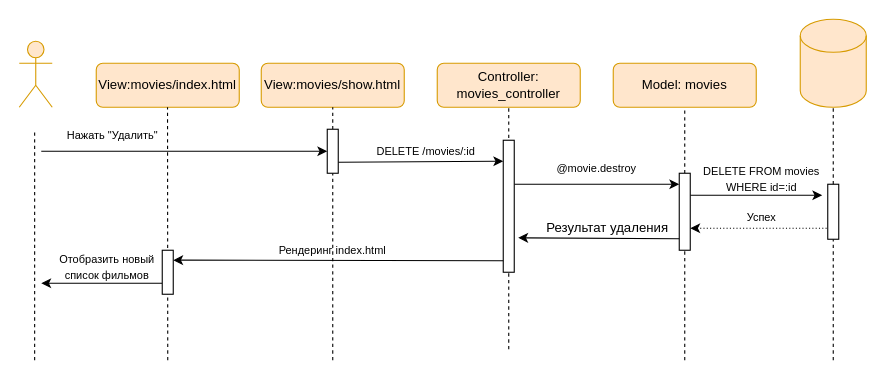
Image size: 886x381. Some labels were removed from this diagram. The box of each missing label's shape, as (x1, y1, x2, y2) in pixels:
DB: (799, 18, 866, 107)
User: (18, 40, 52, 107)
